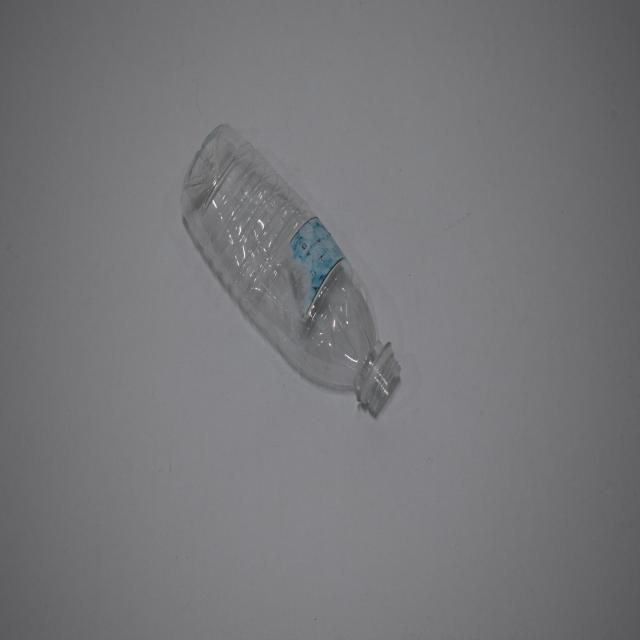bottle: (160, 118, 411, 420)
